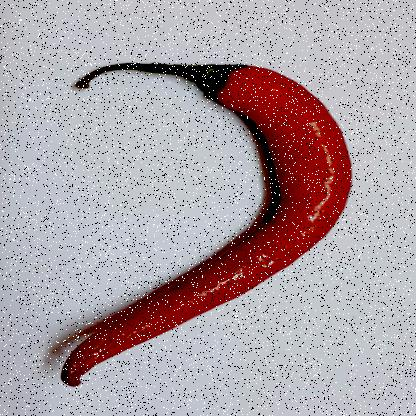chili: (52, 60, 376, 387)
